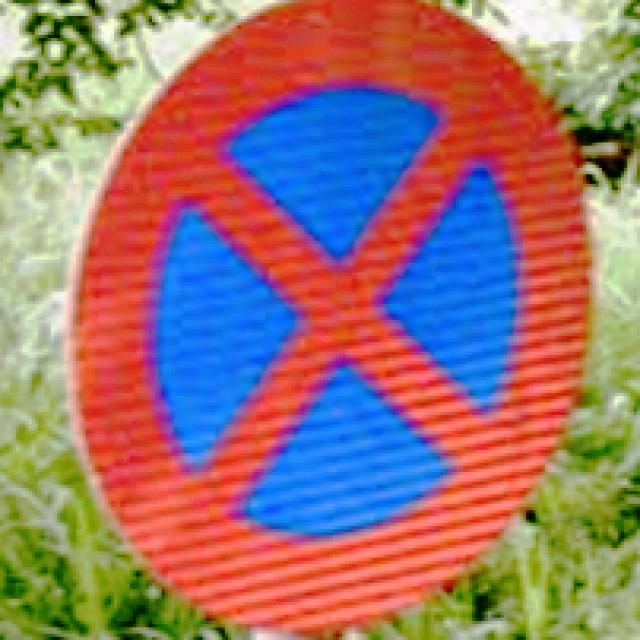nopark: (63, 0, 596, 640)
